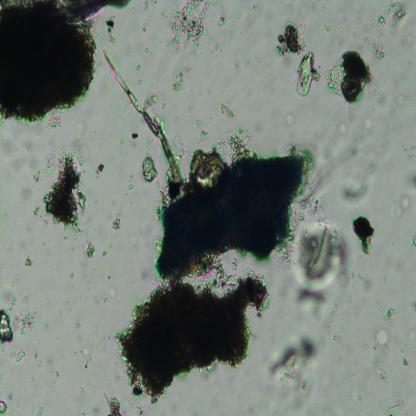Background material: (114, 265, 269, 400), (0, 0, 129, 130), (32, 136, 90, 226), (296, 219, 350, 297), (166, 0, 234, 58), (269, 326, 320, 391), (362, 0, 407, 59), (326, 50, 372, 106), (339, 163, 378, 207), (295, 188, 331, 226), (288, 283, 324, 321), (274, 17, 306, 58), (217, 128, 258, 160), (295, 50, 320, 96), (350, 213, 376, 254), (365, 324, 392, 353), (0, 306, 17, 347), (140, 150, 158, 187), (12, 309, 38, 334), (172, 62, 191, 94), (277, 243, 296, 275), (387, 391, 410, 416), (103, 388, 123, 416), (124, 393, 147, 416), (211, 28, 229, 56), (391, 194, 411, 218), (174, 131, 190, 161), (376, 300, 397, 320), (105, 15, 118, 45), (371, 363, 389, 384), (65, 224, 90, 238), (79, 345, 93, 370), (217, 100, 234, 120), (348, 270, 365, 288), (143, 93, 158, 112), (283, 110, 297, 130), (125, 172, 138, 192), (195, 128, 209, 146), (404, 142, 416, 162), (32, 168, 44, 188), (23, 252, 35, 271), (93, 159, 104, 178), (0, 399, 13, 415), (336, 121, 348, 136), (7, 297, 18, 311), (84, 244, 95, 258), (112, 216, 122, 231), (186, 102, 196, 117), (247, 3, 258, 16), (216, 14, 227, 27), (406, 174, 416, 188), (16, 349, 26, 363), (356, 390, 366, 404), (328, 307, 338, 321), (130, 1, 139, 16), (108, 286, 118, 299), (410, 228, 416, 249), (52, 366, 61, 380), (130, 128, 140, 140), (123, 41, 131, 56), (36, 401, 44, 416), (332, 335, 343, 344), (411, 297, 416, 316), (10, 277, 18, 288), (399, 343, 407, 354), (320, 3, 326, 17), (143, 0, 150, 12), (20, 295, 29, 304), (28, 405, 36, 415), (359, 123, 366, 134), (78, 387, 86, 396), (322, 25, 331, 33), (75, 318, 82, 328), (346, 293, 353, 303), (160, 6, 165, 20), (351, 145, 357, 156), (407, 58, 412, 71), (144, 48, 152, 56), (10, 350, 18, 358), (118, 135, 124, 145), (409, 330, 416, 338), (79, 408, 86, 416), (197, 118, 202, 129), (283, 406, 288, 416), (349, 394, 354, 404), (367, 129, 374, 136), (383, 271, 387, 283), (66, 302, 72, 310), (135, 64, 141, 71), (102, 250, 108, 257), (58, 309, 63, 317), (30, 374, 35, 382), (353, 32, 359, 38), (340, 353, 344, 362), (38, 358, 42, 367), (376, 96, 380, 104), (410, 102, 416, 107), (68, 245, 74, 250), (328, 374, 333, 380), (0, 373, 3, 382), (0, 347, 5, 352), (406, 96, 411, 101), (162, 104, 166, 110), (70, 272, 74, 278), (142, 26, 146, 32), (16, 402, 20, 408), (403, 360, 407, 366), (104, 297, 108, 303), (34, 352, 38, 358), (93, 200, 98, 204), (35, 286, 39, 291), (18, 290, 22, 295), (138, 81, 142, 85), (116, 300, 120, 304), (208, 89, 211, 94), (10, 395, 12, 401), (108, 275, 110, 280), (74, 350, 76, 354)
Cellulose filter fibre: (100, 46, 181, 174)
Fragment: (150, 141, 309, 280)
